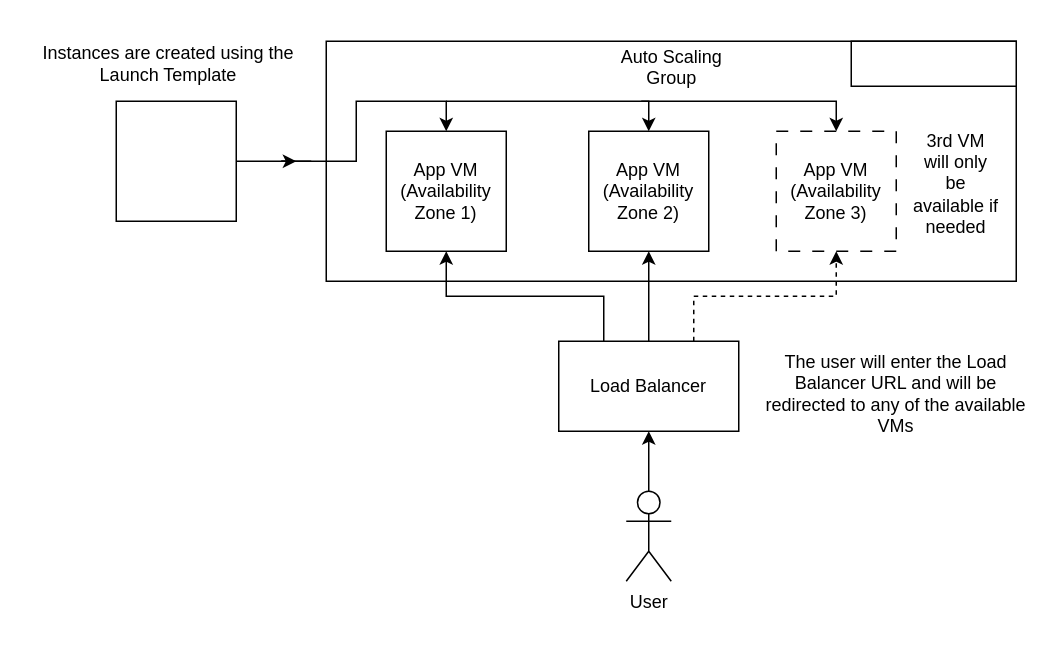
This 1056x660 diagram has some shape labels left out. Each missing label, with the box of its shape:
Desired Capacity: 2 Max Capacity 3: (850, 40, 1016, 86)
Launch Template: (115, 100, 236, 221)
